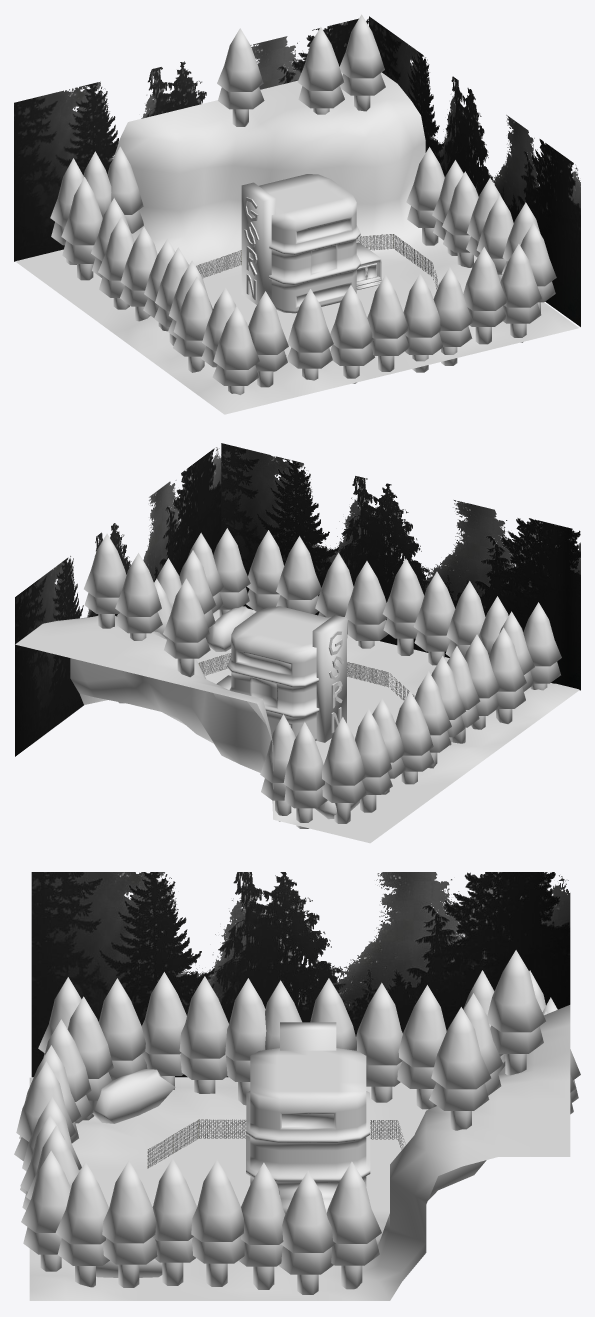
File: m_outside.fbx
3 views of the same model, one above another, from view 1: azimuth 30°, elevation 25°; view 2: azimuth 150°, elevation 25°; view 3: azimuth 270°, elevation 25° (orthographic). The views are drawn at different scales.
Parts seen in each view (by area): view 1: Trees, Ground, Walls, Building, Fence; view 2: Trees, Walls, Ground, Building, Bush, Fence; view 3: Trees, Walls, Ground, Building, Bush, Fence.
Boxes of the visible parts, x1,y1,x2,y2 form: Trees: (50, 14, 556, 394); Ground: (15, 72, 578, 414); Walls: (14, 16, 580, 326); Building: (241, 174, 381, 313); Fence: (196, 234, 438, 289); Trees: (84, 528, 561, 828); Walls: (15, 443, 580, 756); Ground: (14, 608, 579, 843); Building: (216, 606, 346, 742); Bush: (205, 606, 359, 819); Fence: (198, 653, 414, 699); Trees: (14, 950, 580, 1294); Walls: (31, 872, 570, 1077); Ground: (29, 1005, 570, 1300); Building: (246, 1022, 370, 1214); Bush: (89, 1069, 175, 1277); Fence: (147, 1119, 404, 1168).
Bounding box in the file's own units: 5036 × 2885 × 5352.
5 materials, 2 textured.
